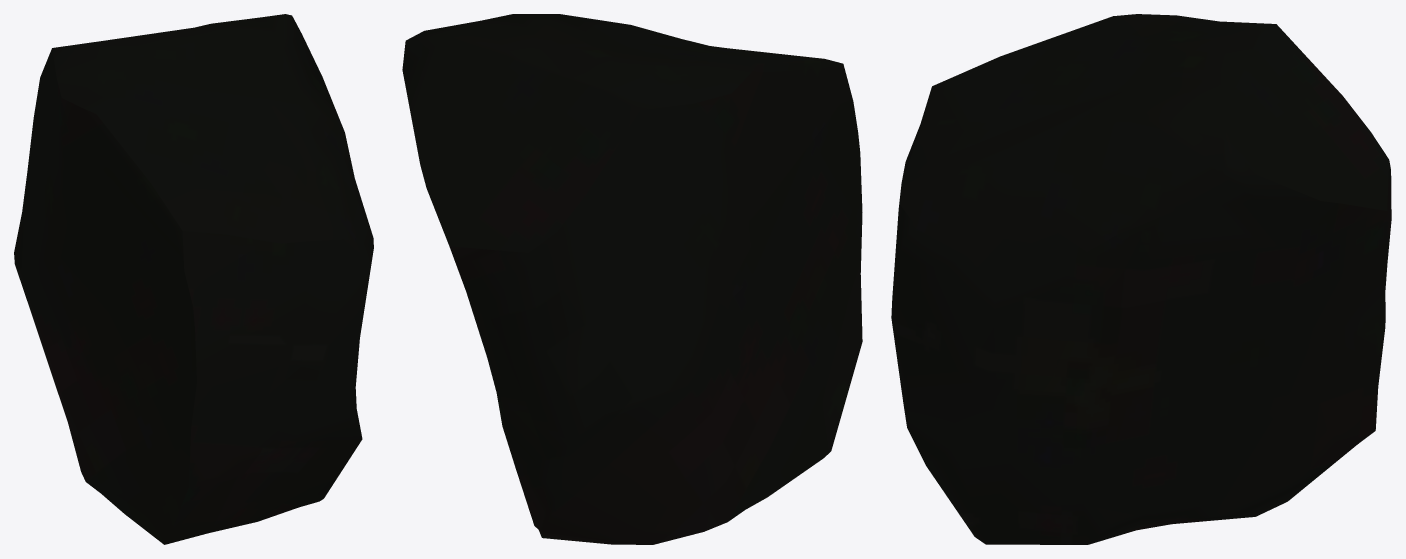
The picture shows the model from 3 angles, left to right: view 1: azimuth 30°, elevation 25°; view 2: azimuth 150°, elevation 25°; view 3: azimuth 270°, elevation 25°; orthographic projection. The views are drawn at different scales.
Parts seen in each view (by area): view 1: SM_HL_LimestoneSm_01_Moss_LOD0; view 2: SM_HL_LimestoneSm_01_Moss_LOD0; view 3: SM_HL_LimestoneSm_01_Moss_LOD0.
Boxes of the visible parts, <box> form: SM_HL_LimestoneSm_01_Moss_LOD0: <box>14,14,373,544</box>; SM_HL_LimestoneSm_01_Moss_LOD0: <box>402,14,862,544</box>; SM_HL_LimestoneSm_01_Moss_LOD0: <box>891,14,1391,544</box>.
Size of the model in its own units: 0.2581 by 0.3727 by 0.3729.
1 material, 1 textured.
